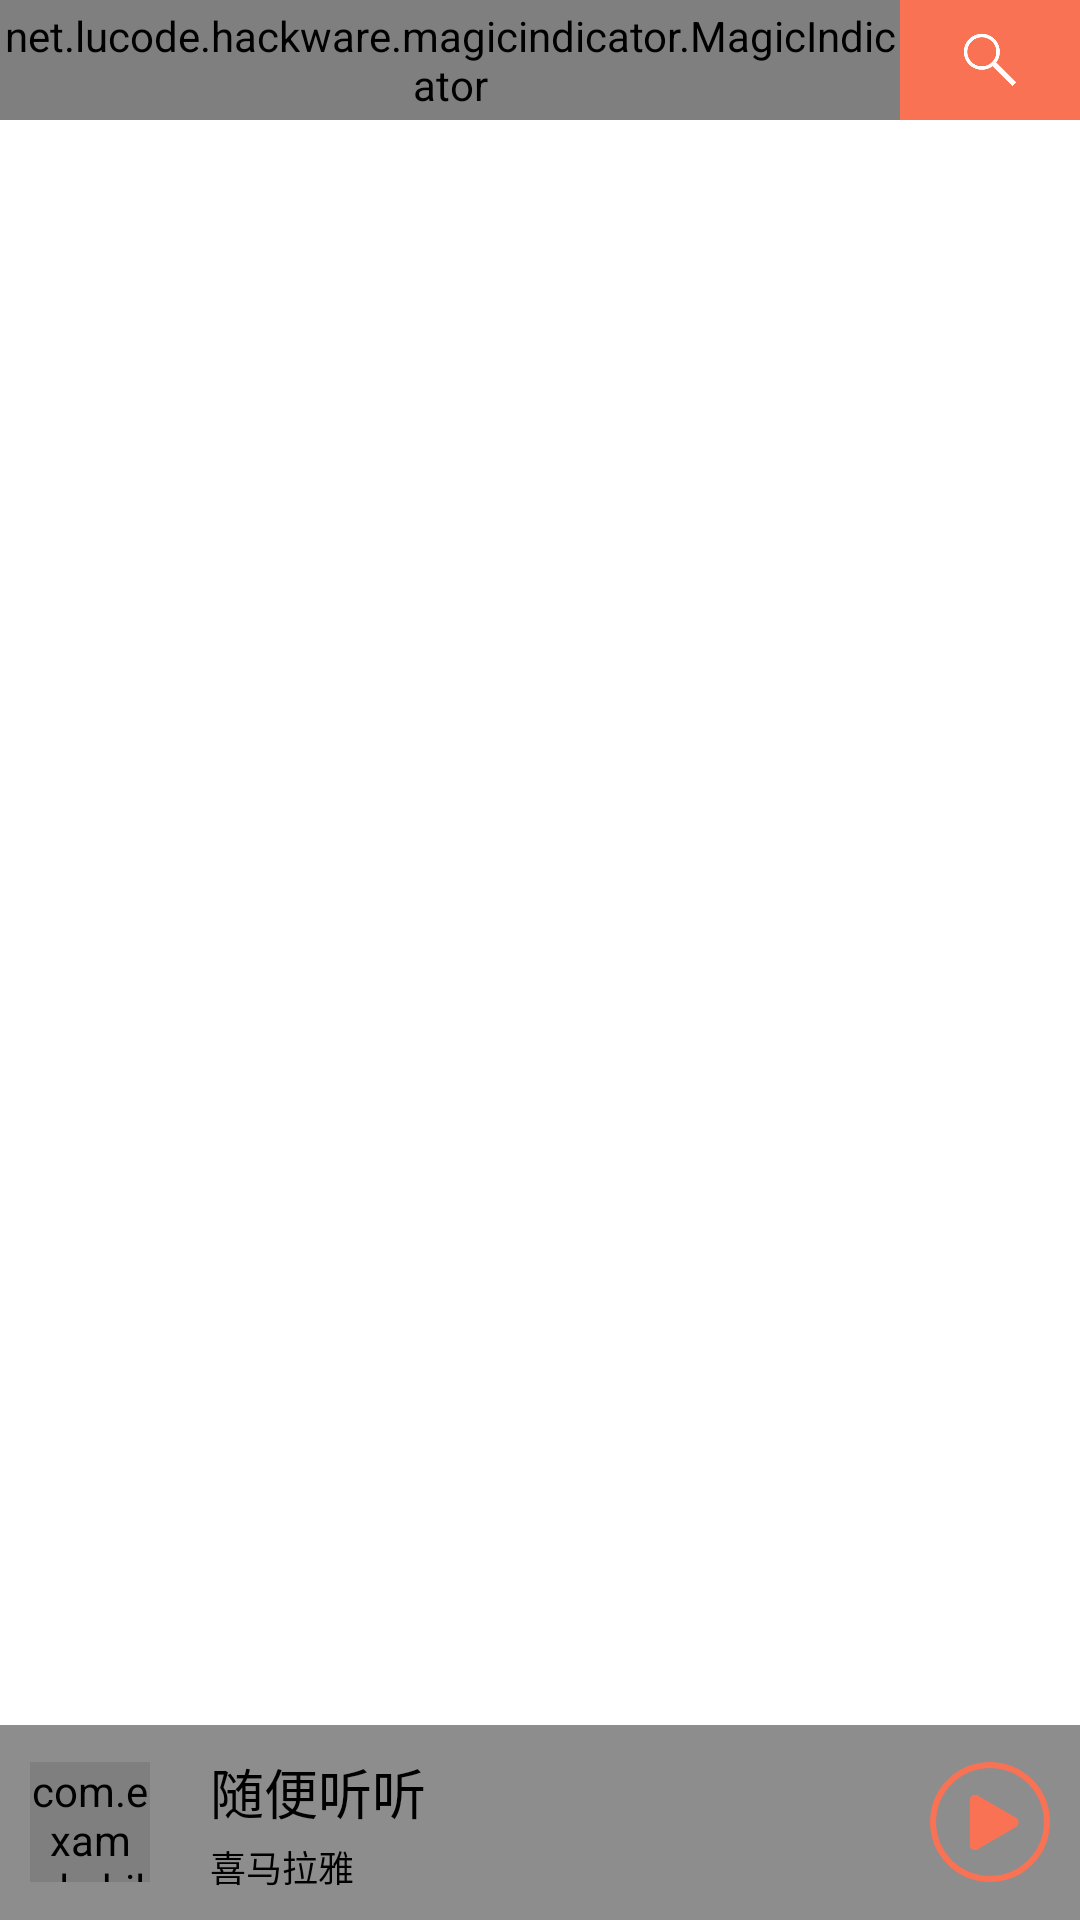

Named icons in this screenshot (1080x1920) and their centers, point (x, y):
play continue: point (990, 1822)
search: point (990, 60)
